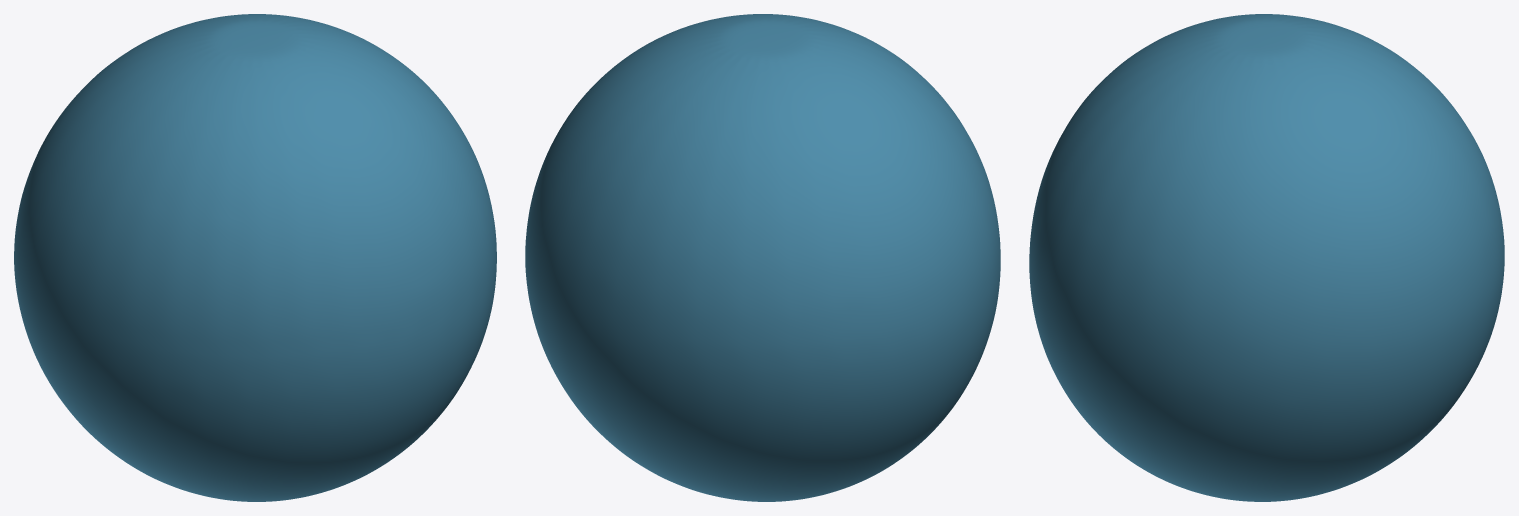
Rendered from waterocean (1).glb.
The picture shows the model from 3 angles, left to right: view 1: azimuth 30°, elevation 25°; view 2: azimuth 150°, elevation 25°; view 3: azimuth 270°, elevation 25°; orthographic projection.
Parts seen in each view (by area): view 1: Sphere; view 2: Sphere; view 3: Sphere.
Part boxes in pixels (box(x1,y1,x2,y2)): Sphere: box(14, 14, 496, 501); Sphere: box(525, 14, 1000, 501); Sphere: box(1029, 14, 1504, 501).
Bounding box in the file's own units: 1.93 × 1.95 × 1.91.
